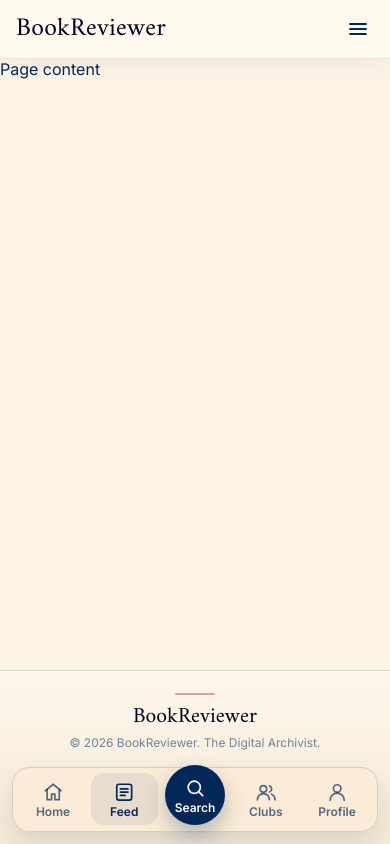
it: AppChrome phone menu › opens with every section, Add book, search and log out
Click the button named "Open menu".
click(358, 29)  # box [336,7,380,51]
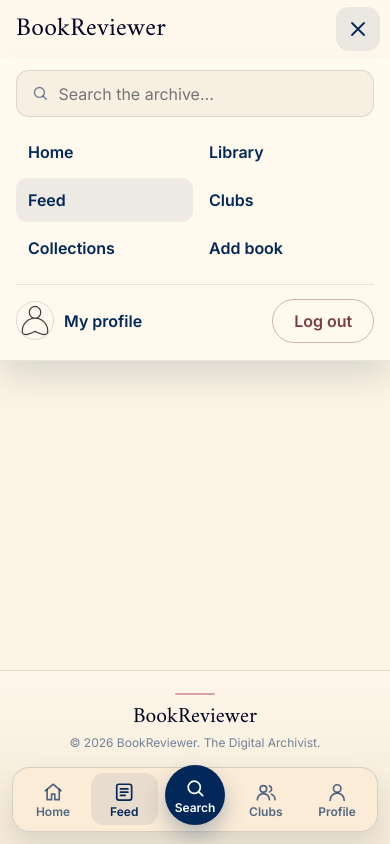
Now the button named "Close menu" is expanded, box [336,7,380,51]
Now the search field is shown, box [59,84,359,104]
Now the button "Log out" is shown, box [272,298,374,342]
